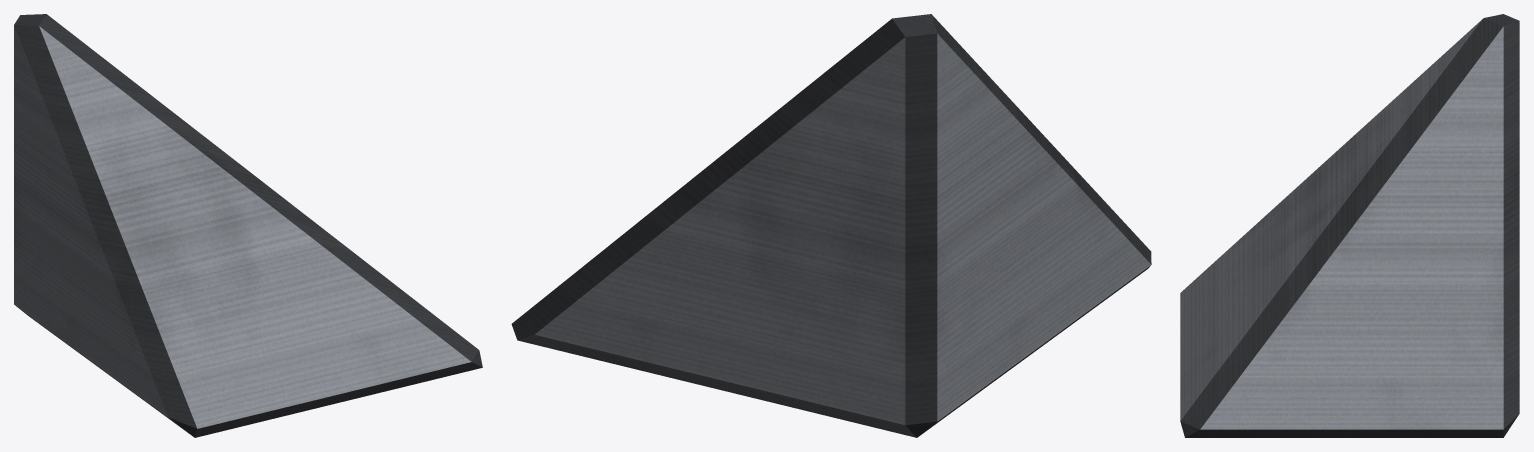
File: R4B_CornerWedge_LOD1.glb
3 renders of one model, left to right at view 1: azimuth 30°, elevation 25°; view 2: azimuth 150°, elevation 25°; view 3: azimuth 270°, elevation 25°, orthographic. The views are drawn at different scales.
Visible parts, largest first — view 1: R4B_CornerWedge_LOD1; view 2: R4B_CornerWedge_LOD1; view 3: R4B_CornerWedge_LOD1.
Part boxes in pixels (<box>): R4B_CornerWedge_LOD1: <box>14,14,482,437</box>; R4B_CornerWedge_LOD1: <box>511,14,1151,437</box>; R4B_CornerWedge_LOD1: <box>1180,14,1519,437</box>.
Size of the model in its own units: 0.503 by 0.4666 by 0.503.
Materials: 2 (2 with a texture image).
